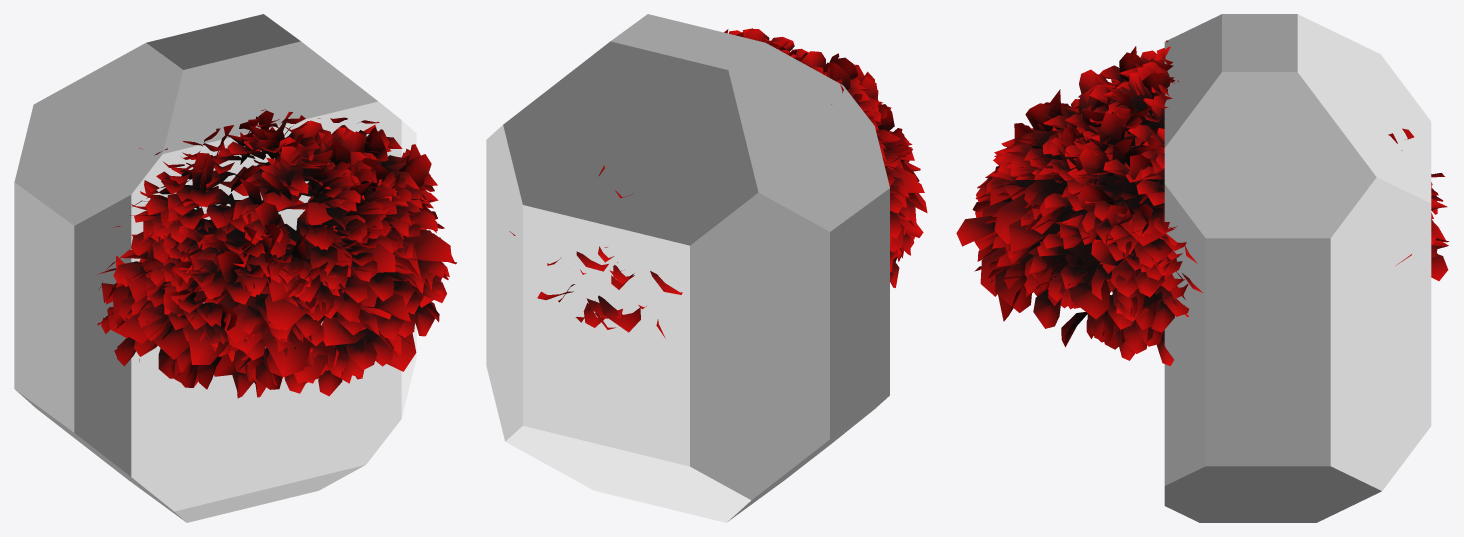
The model's file is SM_Bush_04.fbx.
3 views of the same model, side by side, from view 1: azimuth 30°, elevation 25°; view 2: azimuth 150°, elevation 25°; view 3: azimuth 270°, elevation 25° (orthographic).
Parts seen in each view (by area): view 1: SM_Bush_04_ConvexHulls, SM_Bush_04_LOD0; view 2: SM_Bush_04_ConvexHulls, SM_Bush_04_LOD0; view 3: SM_Bush_04_ConvexHulls, SM_Bush_04_LOD0.
Boxes of the visible parts, left/top/right/bottom form: SM_Bush_04_ConvexHulls: left=14, top=14, right=416, bottom=522; SM_Bush_04_LOD0: left=97, top=109, right=456, bottom=398; SM_Bush_04_ConvexHulls: left=486, top=14, right=889, bottom=522; SM_Bush_04_LOD0: left=509, top=28, right=927, bottom=338; SM_Bush_04_ConvexHulls: left=1164, top=14, right=1431, bottom=522; SM_Bush_04_LOD0: left=956, top=40, right=1449, bottom=366.
Bounding box in the file's own units: 125 × 155 × 155.
